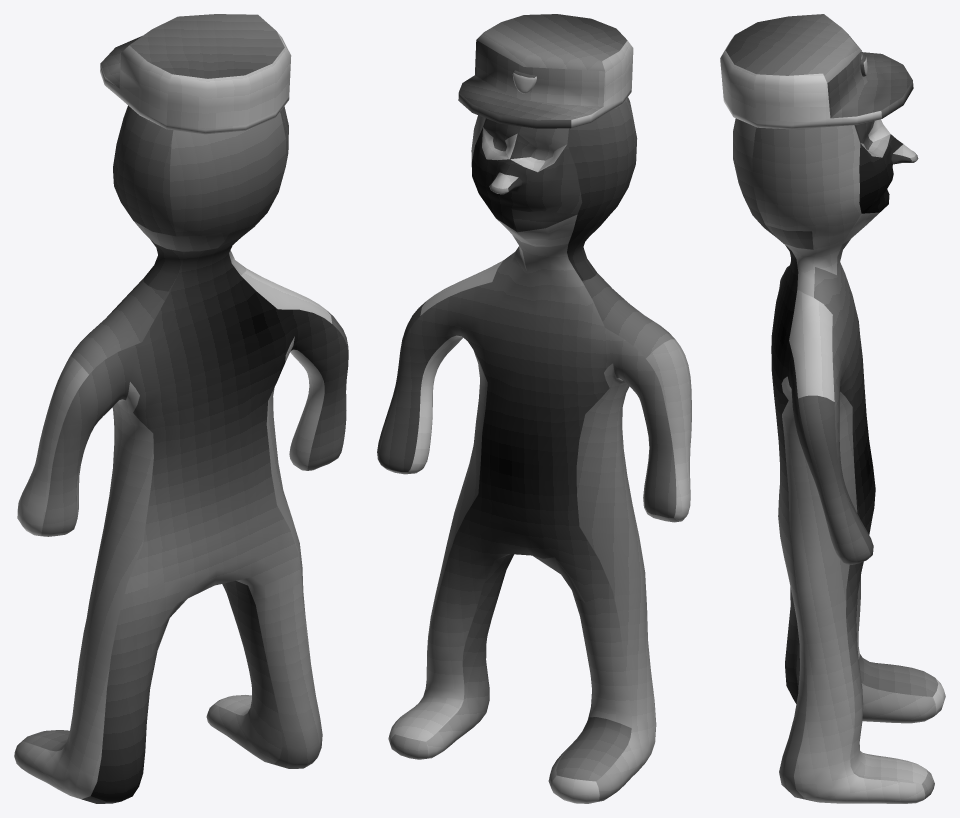
File: enemy.obj
The picture shows the model from 3 angles, left to right: view 1: azimuth 30°, elevation 25°; view 2: azimuth 150°, elevation 25°; view 3: azimuth 270°, elevation 25°; orthographic projection. The views are drawn at different scales.
Parts seen in each view (by area): view 1: Body_Cube; view 2: Body_Cube; view 3: Body_Cube.
Boxes of the visible parts, <box> form: Body_Cube: <box>14,14,348,803</box>; Body_Cube: <box>377,14,691,803</box>; Body_Cube: <box>720,14,945,803</box>.
Size of the model in its own units: 1.39 by 3.06 by 0.8784.
